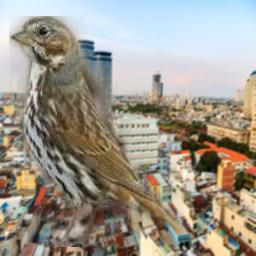Sparrow: (9, 16, 201, 247)
